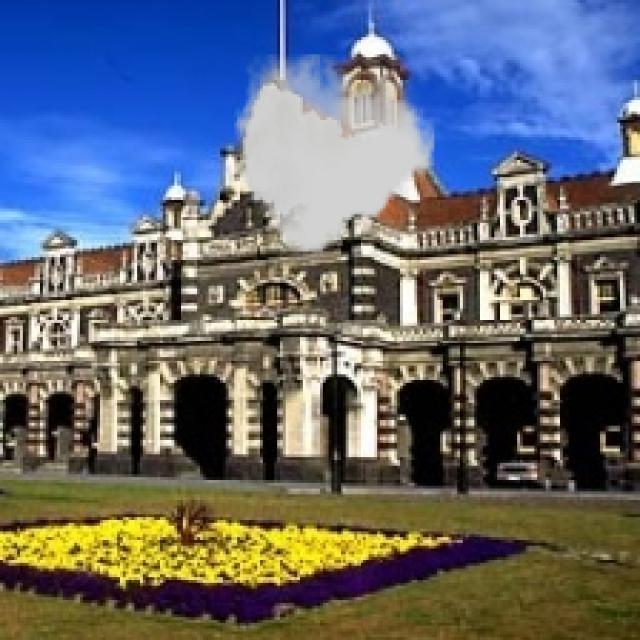Smoke: (235, 54, 434, 254)
